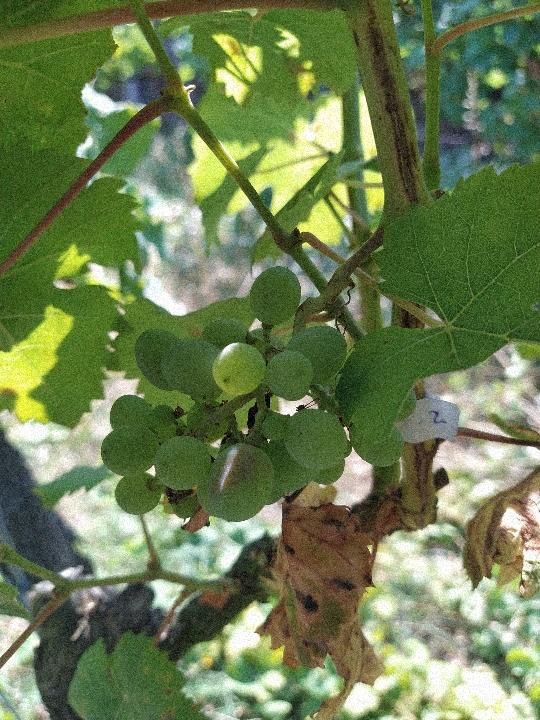grape: (99, 262, 419, 524)
